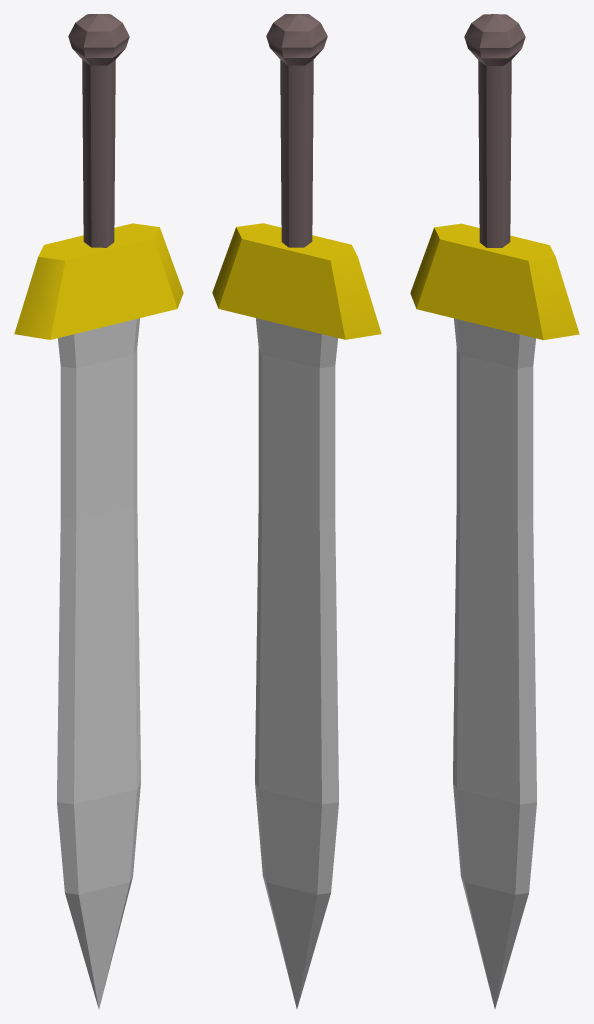
File: kiem roman.fbx
3 renders of one model, left to right at view 1: azimuth 30°, elevation 25°; view 2: azimuth 150°, elevation 25°; view 3: azimuth 330°, elevation 25°, orthographic.
Parts seen in each view (by area): view 1: kiem_roman; view 2: kiem_roman; view 3: kiem_roman.
Part boxes in pixels (x1=…): kiem_roman: x1=14, y1=14, x2=183, y2=1008; kiem_roman: x1=212, y1=14, x2=381, y2=1008; kiem_roman: x1=410, y1=14, x2=579, y2=1008.
Size of the model in its own units: 0.9009 by 5.06 by 0.2836.
